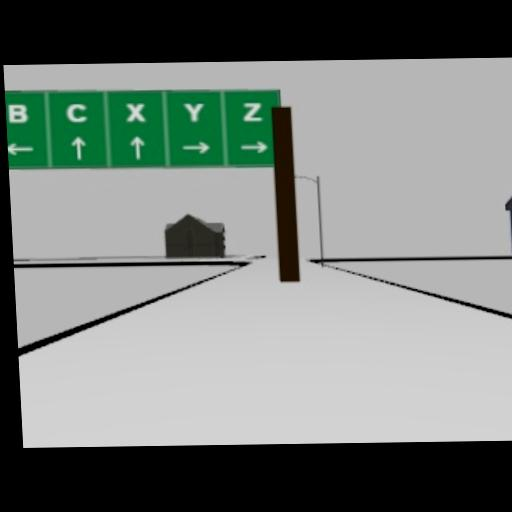B: (7, 102, 27, 121)
C: (65, 101, 87, 121)
Left: (7, 141, 34, 154)
Right: (239, 139, 269, 152), (181, 140, 211, 153)
Straight: (70, 134, 85, 158), (130, 134, 145, 158)
X: (125, 100, 147, 120)
Y: (183, 102, 205, 121)
Z: (241, 101, 263, 120)
